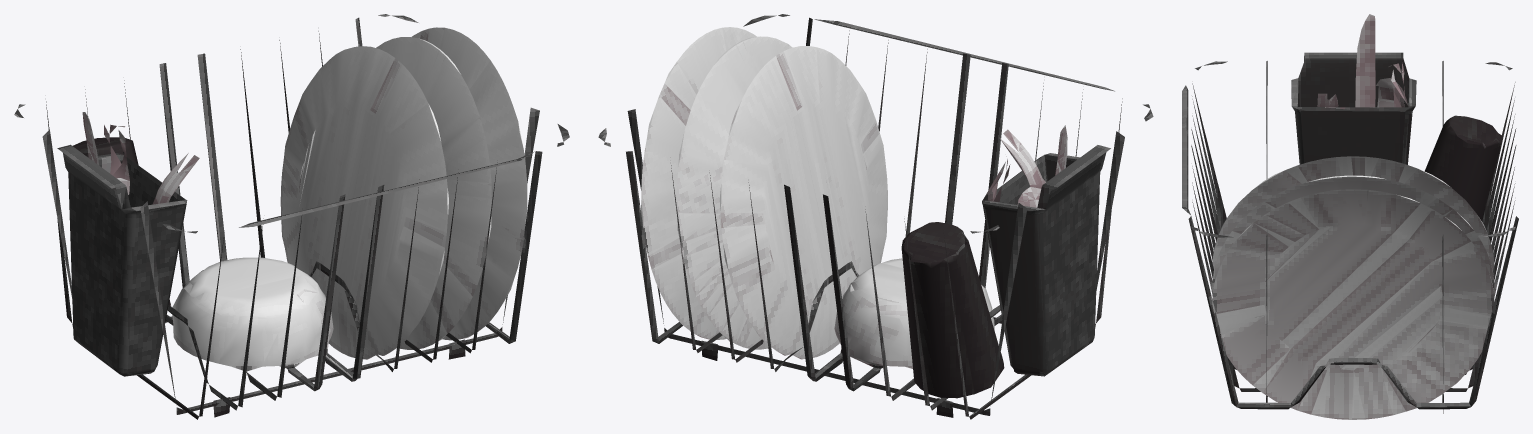
File: dish_rack.glb
3 views of the same model, side by side, from view 1: azimuth 30°, elevation 25°; view 2: azimuth 150°, elevation 25°; view 3: azimuth 270°, elevation 25° (orthographic). The views are drawn at different scales.
Parts seen in each view (by area): view 1: mesh; view 2: mesh; view 3: mesh.
Boxes of the visible parts, bbox=[...] form: mesh: bbox=[14, 14, 569, 419]; mesh: bbox=[598, 14, 1153, 419]; mesh: bbox=[1182, 14, 1518, 419].
Size of the model in its own units: 0.4404 by 0.3 by 0.3496.
Materials: 1 (1 with a texture image).
